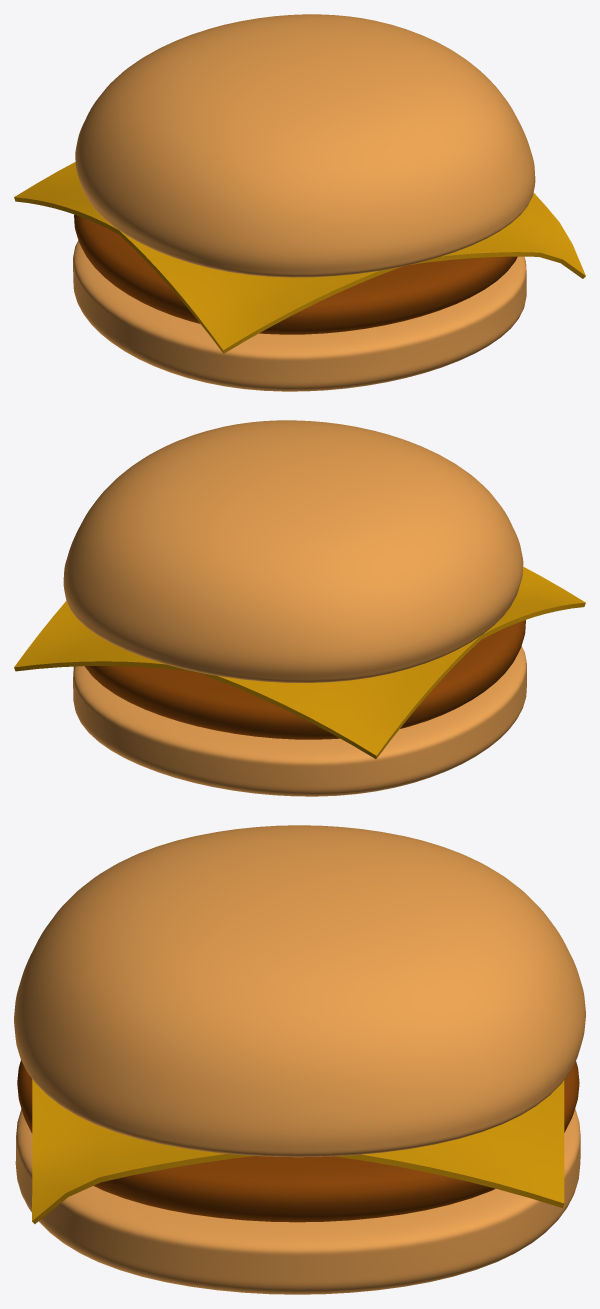
The model's file is my_burger.glb.
3 views of the same model, one above another, from view 1: azimuth 30°, elevation 25°; view 2: azimuth 150°, elevation 25°; view 3: azimuth 270°, elevation 25° (orthographic). The views are drawn at different scales.
Visible parts, largest first — view 1: Cube.001, Cube, Plane, Cube.002; view 2: Cube.001, Cube, Plane, Cube.002; view 3: Cube.001, Cube, Plane, Cube.002.
Boxes of the visible parts, bbox=[...] form: Cube.001: bbox=[75, 14, 535, 277]; Cube: bbox=[73, 240, 526, 391]; Plane: bbox=[14, 162, 585, 353]; Cube.002: bbox=[74, 214, 517, 334]; Cube.001: bbox=[63, 420, 523, 682]; Cube: bbox=[73, 646, 526, 796]; Plane: bbox=[14, 566, 585, 758]; Cube.002: bbox=[84, 620, 525, 739]; Cube.001: bbox=[14, 825, 585, 1157]; Cube: bbox=[15, 1109, 580, 1294]; Plane: bbox=[32, 1079, 564, 1223]; Cube.002: bbox=[17, 1060, 579, 1222].
Bounding box in the file's own units: 7.45 × 4.64 × 7.38.
